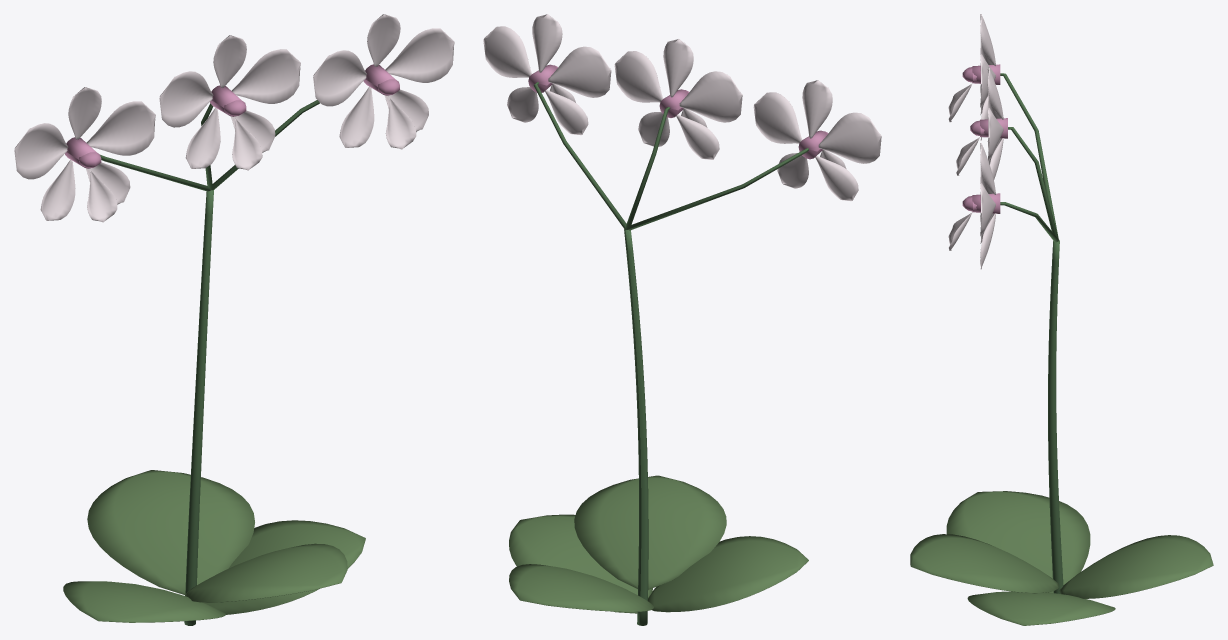
Rendered from orchid-rare-v2.glb.
3 views of the same model, side by side, from view 1: azimuth 30°, elevation 25°; view 2: azimuth 150°, elevation 25°; view 3: azimuth 270°, elevation 25° (orthographic). The views are drawn at different scales.
Visible parts, largest first — view 1: orchid-rare-v2-leaf, orchid-rare-v2-petal, orchid-rare-v2-stem, orchid-rare-v2-center; view 2: orchid-rare-v2-leaf, orchid-rare-v2-petal, orchid-rare-v2-stem, orchid-rare-v2-center; view 3: orchid-rare-v2-leaf, orchid-rare-v2-stem, orchid-rare-v2-petal, orchid-rare-v2-center.
Boxes of the visible parts, x1,y1,x2,y2 form: orchid-rare-v2-leaf: [63, 470, 365, 622]; orchid-rare-v2-petal: [14, 14, 454, 222]; orchid-rare-v2-stem: [100, 100, 319, 625]; orchid-rare-v2-center: [65, 64, 399, 168]; orchid-rare-v2-leaf: [509, 475, 808, 613]; orchid-rare-v2-petal: [483, 14, 881, 201]; orchid-rare-v2-stem: [533, 82, 808, 625]; orchid-rare-v2-center: [528, 64, 828, 159]; orchid-rare-v2-leaf: [910, 491, 1213, 625]; orchid-rare-v2-stem: [1000, 73, 1063, 593]; orchid-rare-v2-petal: [948, 14, 1003, 269]; orchid-rare-v2-center: [962, 64, 1007, 213].
Size of the model in its own units: 1.44 by 1.94 by 0.9747.
